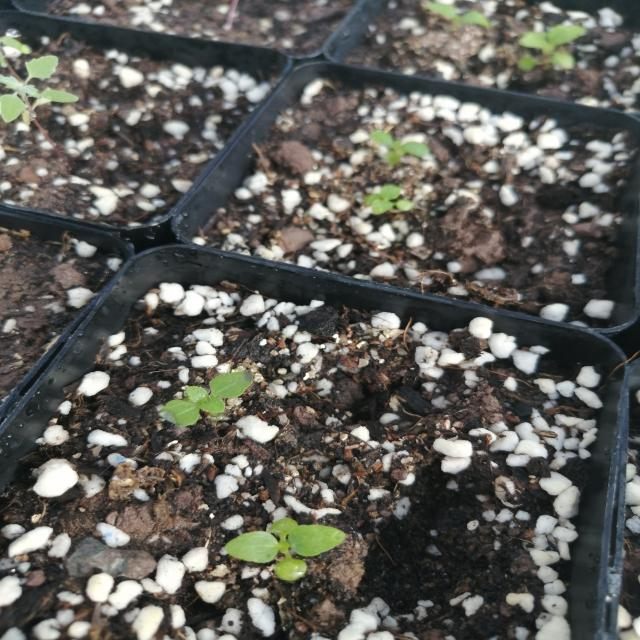billygoat_weed: (224, 502, 365, 591), (162, 363, 262, 441), (361, 124, 434, 180)
